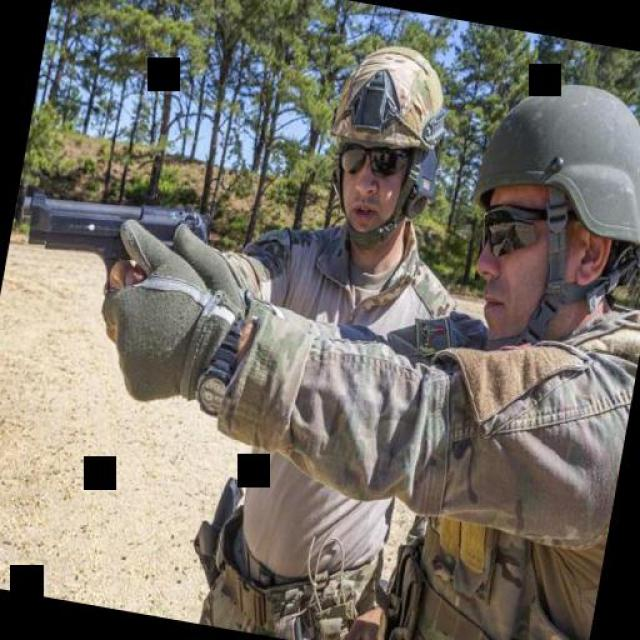gun: (8, 172, 216, 302)
